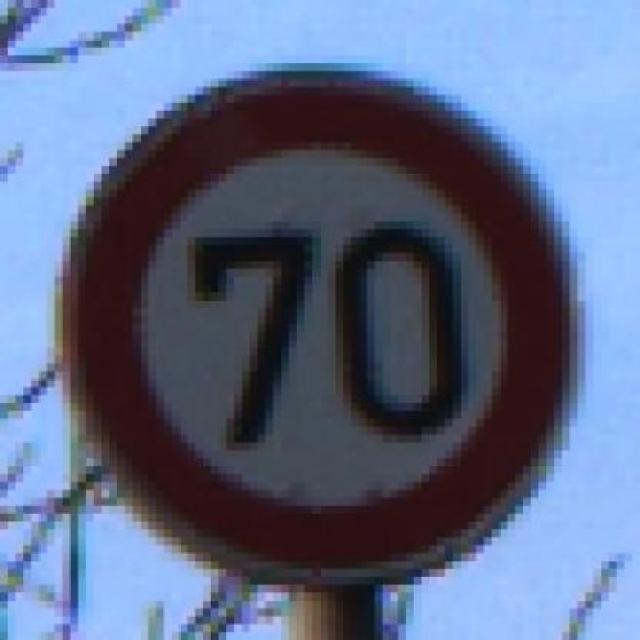forb_speed_over_70: (70, 69, 576, 571)
